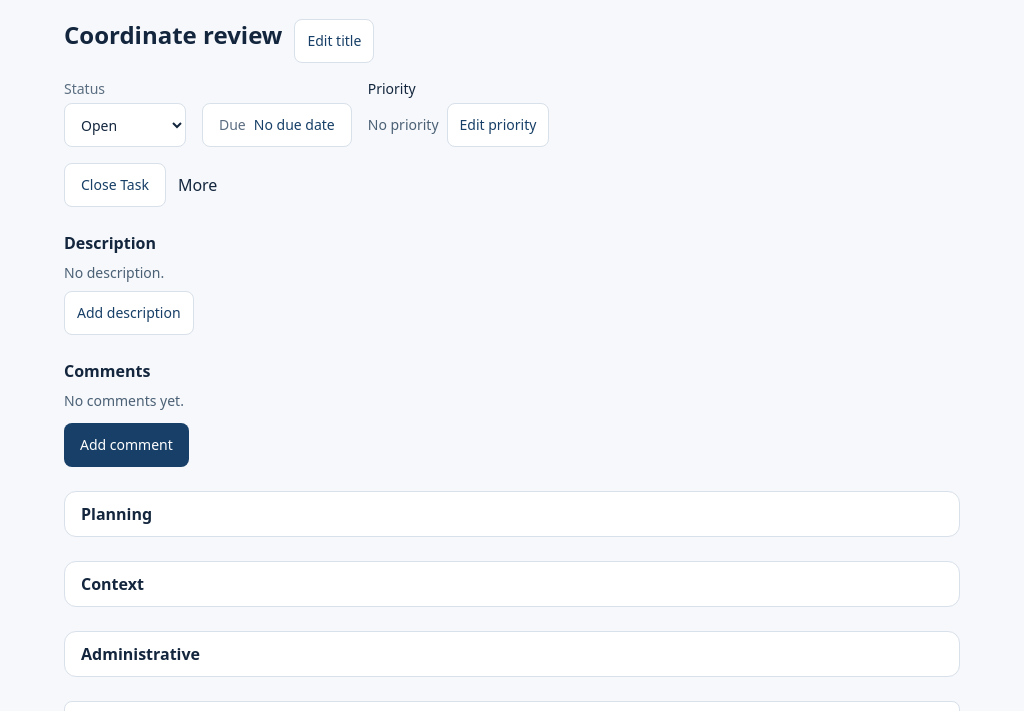
TaskDetailView authoritative draft / conflict › preserves draft on 409 without current after follow-up read
This screenshot has width=1024, height=711.
Click the button with test id "task-edit-title" at point(334, 41), box left=294, top=19, right=374, bottom=63
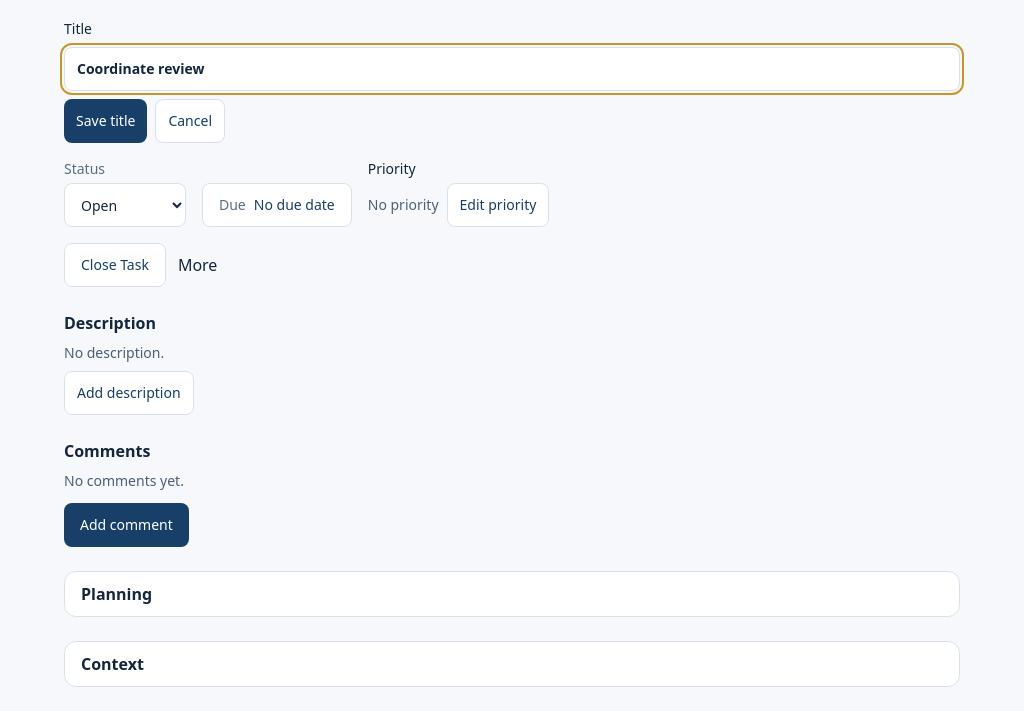
Replace the text in the field labelled "Title" with "Kept draft title" at point(512, 69), box left=64, top=47, right=960, bottom=91
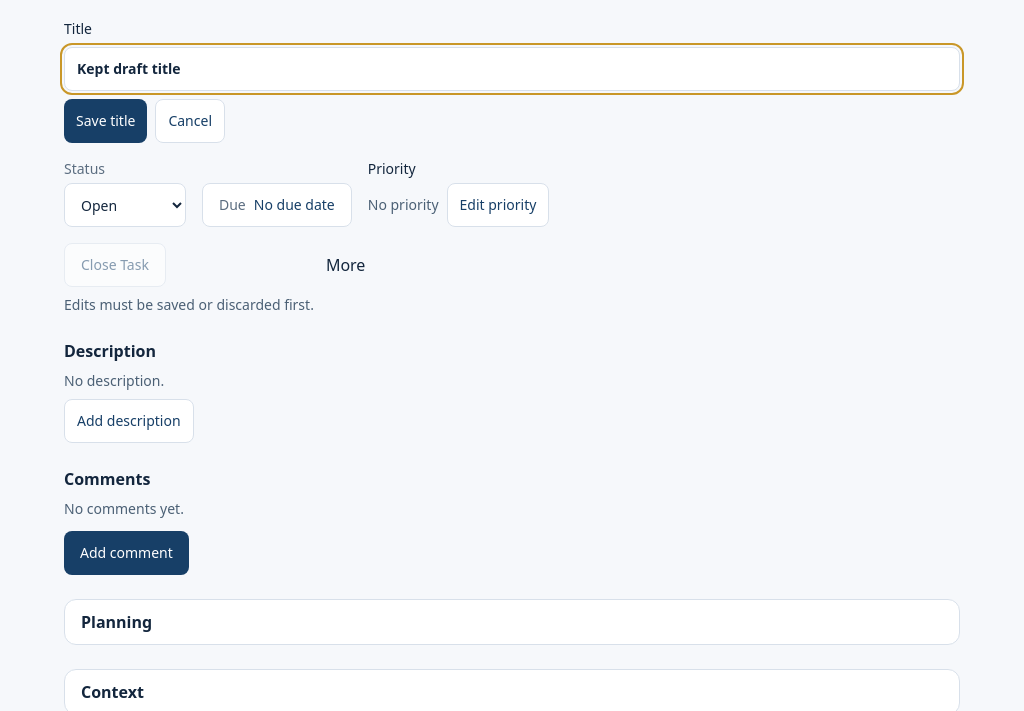
Click the button "Save title" at point(106, 121), box left=64, top=99, right=147, bottom=143
(page scrolled)
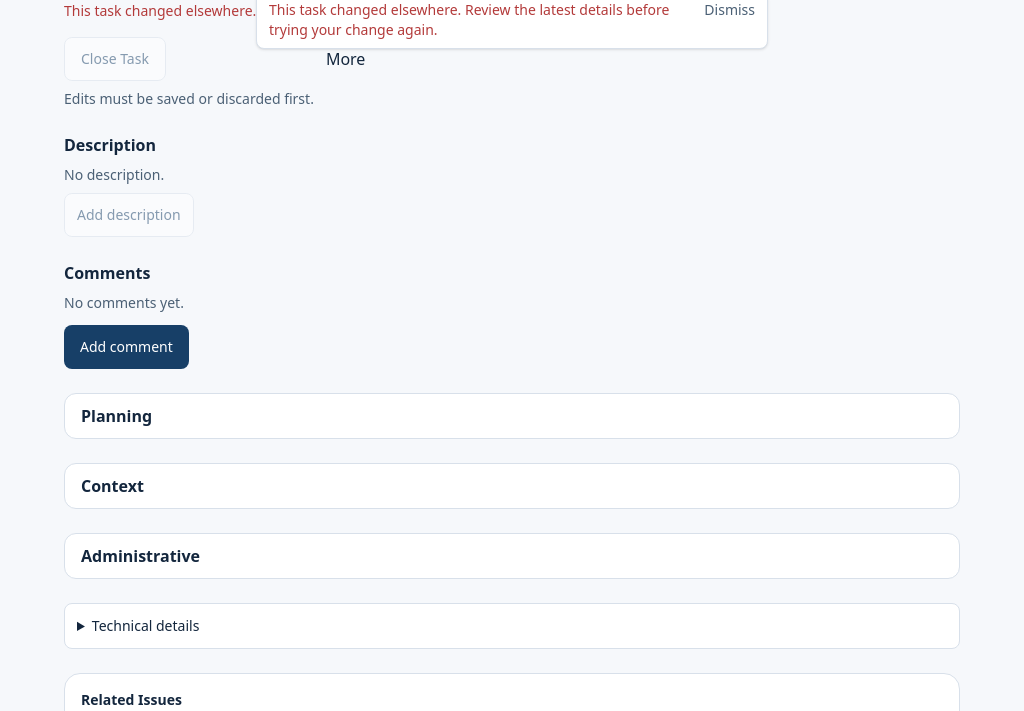
Click the heading "Technical details" at point(146, 626), box left=92, top=616, right=199, bottom=635
(page scrolled)
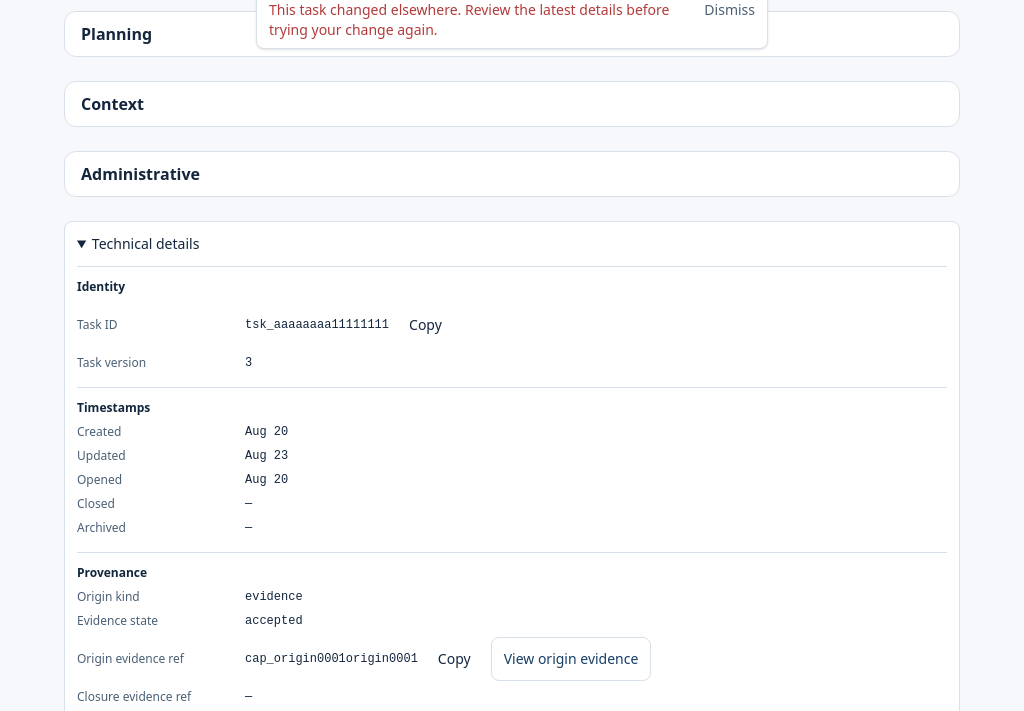
Check: the text "3" is shown, box left=245, top=355, right=252, bottom=371
